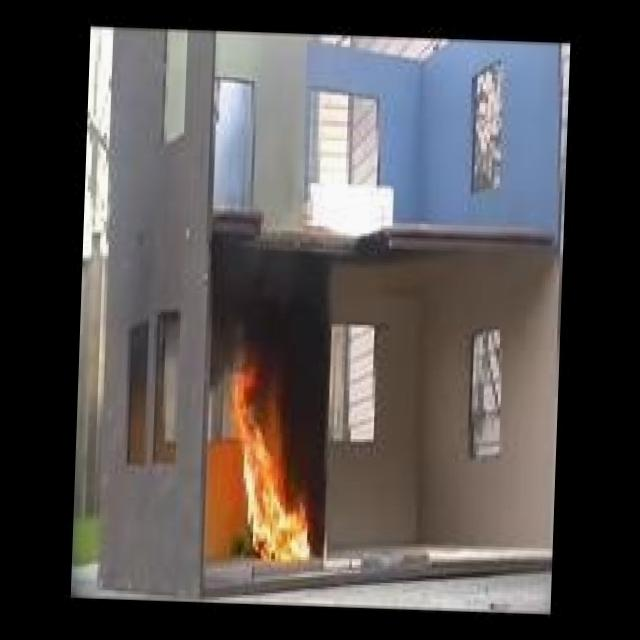fire: (208, 364, 332, 574)
